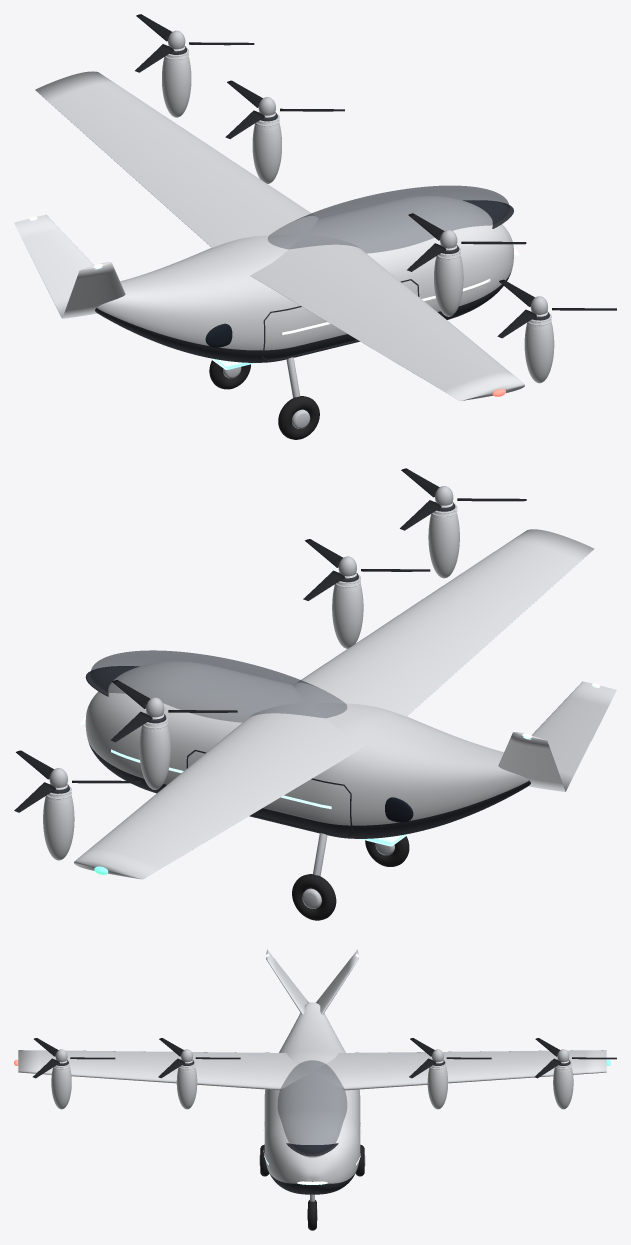
Rendered from evtol-rotores_basculantes.glb.
The picture shows the model from 3 angles, top to bottom: view 1: azimuth 30°, elevation 25°; view 2: azimuth 150°, elevation 25°; view 3: azimuth 270°, elevation 25°; orthographic projection. The views are drawn at different scales.
Parts seen in each view (by area): view 1: ala, fuselaje, cabina, cola_v (×2), gondola.002, gondola.003, gondola.001, gondola, cubierta.002, marco_cabina, cubierta.001; view 2: ala, fuselaje, cabina, cola_v (×2), gondola.003, gondola.001, gondola, gondola.002, cubierta.001, marco_cabina, cubierta.002; view 3: ala, fuselaje, cabina, cola_v (×2), gondola.003, gondola.002, gondola, gondola.001, marco_cabina.
Part boxes in pixels (x1,y1,x2,y2): ala: (35, 71, 524, 400); fuselaje: (95, 195, 513, 362); cabina: (268, 185, 509, 253); cola_v (×2): (14, 214, 125, 318); gondola.002: (434, 245, 463, 316); gondola.003: (524, 312, 554, 383); gondola.001: (162, 46, 191, 117); gondola: (252, 112, 281, 183); cubierta.002: (278, 396, 319, 439); marco_cabina: (463, 200, 513, 228); cubierta.001: (209, 360, 250, 389); ala: (74, 529, 594, 879); fuselaje: (85, 661, 530, 838); cabina: (90, 650, 346, 722); cola_v (×2): (498, 681, 616, 791); gondola.003: (428, 502, 459, 578); gondola.001: (43, 784, 74, 860); gondola: (139, 714, 170, 789); gondola.002: (332, 573, 363, 648); cubierta.001: (292, 874, 336, 920); marco_cabina: (85, 666, 138, 696); cubierta.002: (365, 836, 409, 866); ala: (18, 1050, 606, 1090); fuselaje: (264, 1002, 360, 1194); cabina: (278, 1060, 346, 1157); cola_v (×2): (266, 949, 358, 1014); gondola.003: (51, 1060, 71, 1109); gondola.002: (176, 1060, 197, 1109); gondola: (427, 1060, 447, 1109); gondola.001: (553, 1060, 573, 1109); marco_cabina: (286, 1143, 338, 1156).
Size of the model in its own units: 4.29 by 2 by 6.97.
